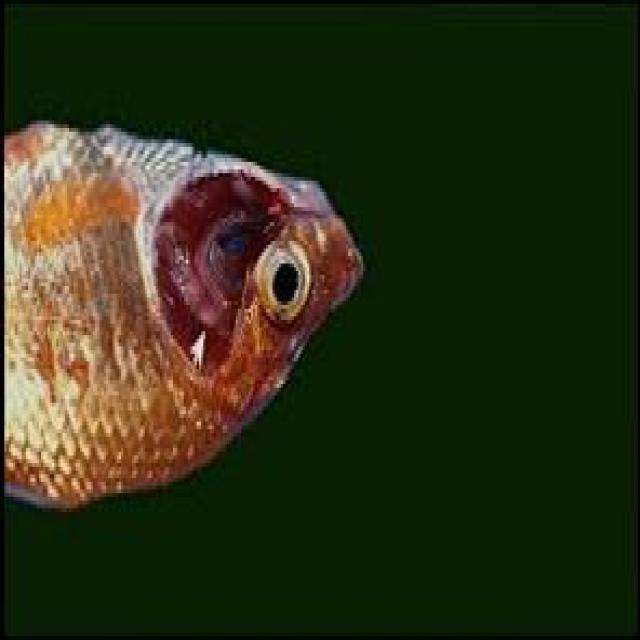Gill Disease: (2, 115, 360, 508)
